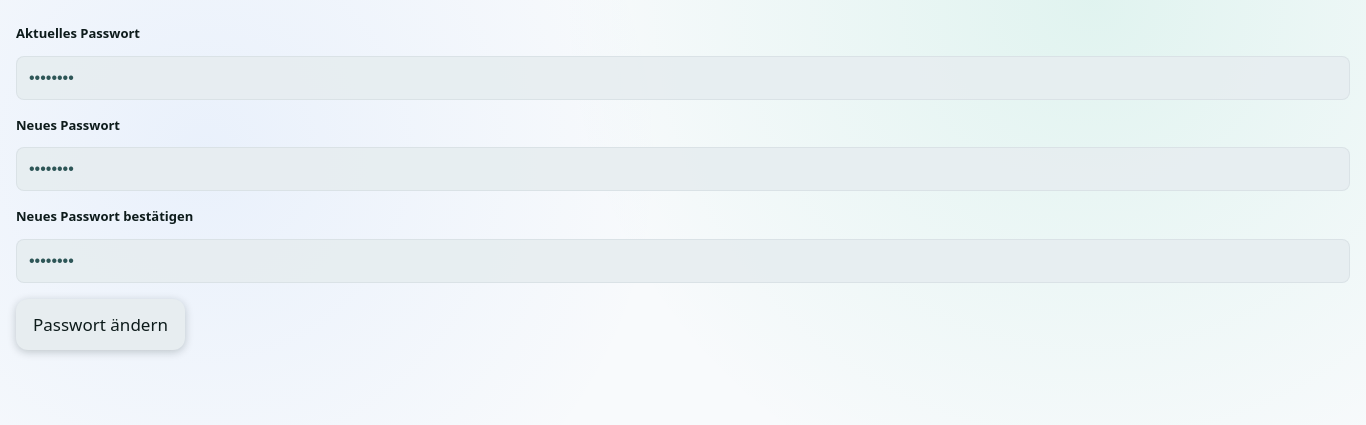
ChangePasswordForm › zeigt Validierungsnachricht ohne Anmeldung
The image size is (1366, 425).
Click the button "Passwort ändern". click: {"x": 100, "y": 324}
box: [16,298,185,350]
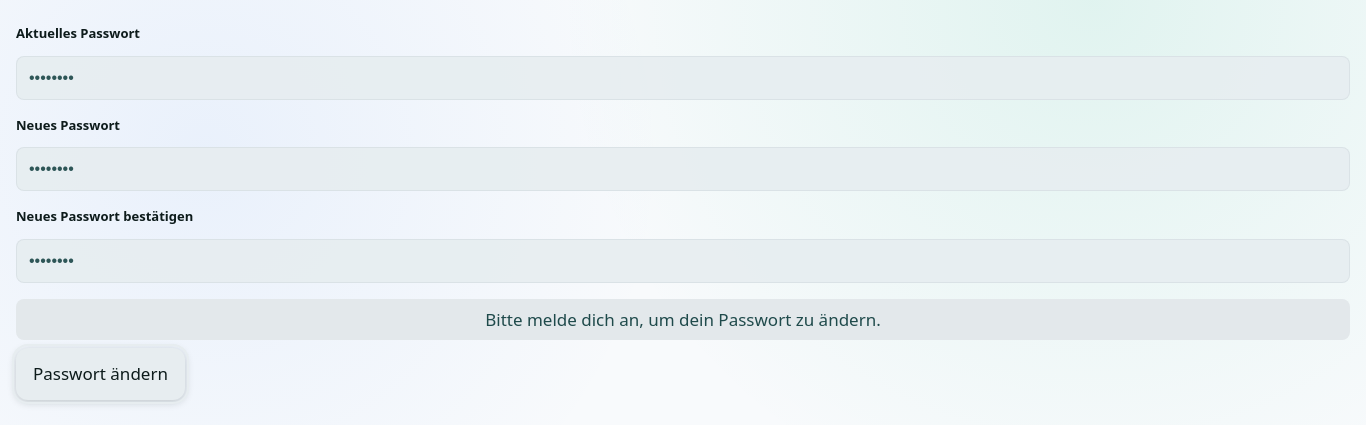
Result: the text "Bitte melde dich an, um dein Passwort zu ändern." is shown at [16,298,1350,340]
